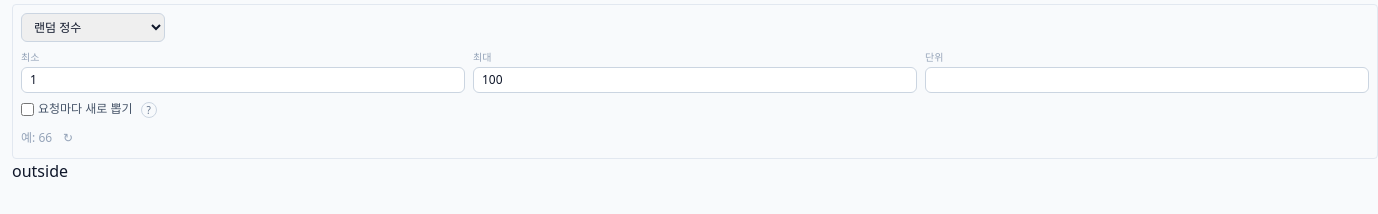
Scenario: GenVarEditor — 랜덤 정수 › 최소/최대 비정수 draft는 per-field 안내 + 각자 별도 id로 aria-describedby(US: per-field 무효 안내)
Replace the text in the number field labelled "최소" with "1.5": (243, 80) [21,67,465,93]
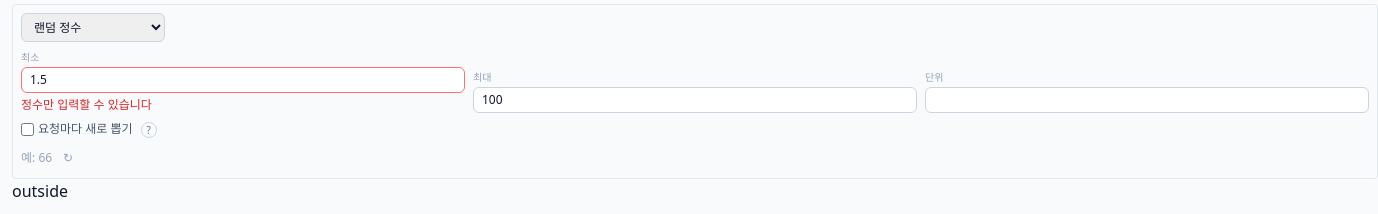
Replace the text in the number field labelled "최소 정수만 입력할 수 있습니다" with "1": (243, 80) [21,67,465,93]
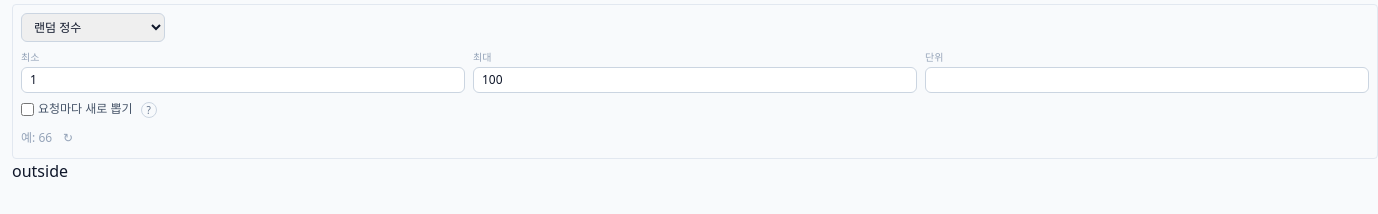
// min/max 둘 다 비정수면 같은 문구의 hint가 둘 존재 — 각 input은 *자기* id만 가리켜야 한다.
Replace the text in the number field labelled "최소" with "1.5": (243, 80) [21,67,465,93]
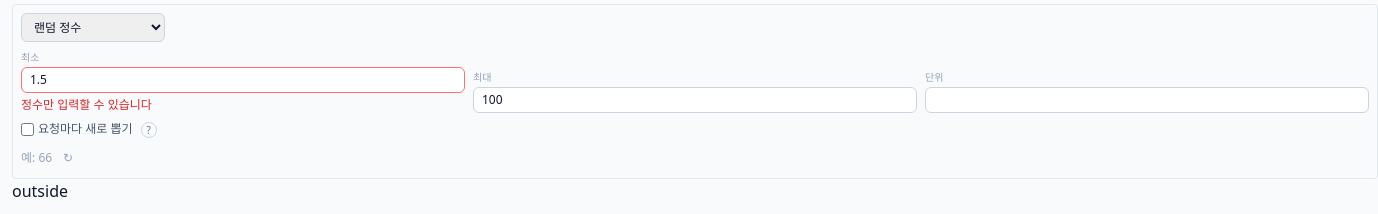
Replace the text in the number field labelled "최대" with "2.5": (695, 100) [473,87,917,113]
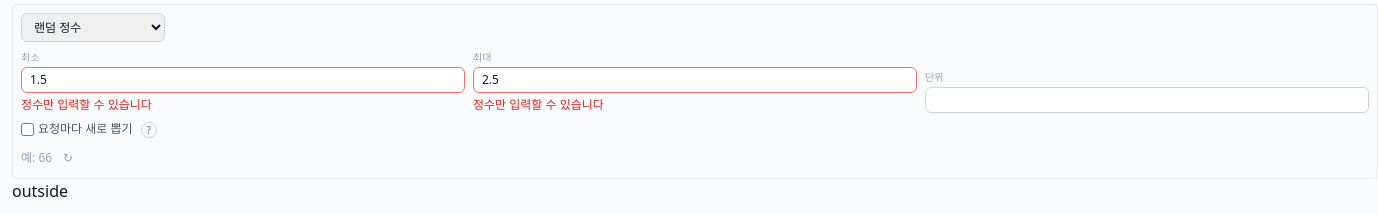
Expected: the text "정수만 입력할 수 있습니다" below "최대" is shown, [473,96,604,113]
